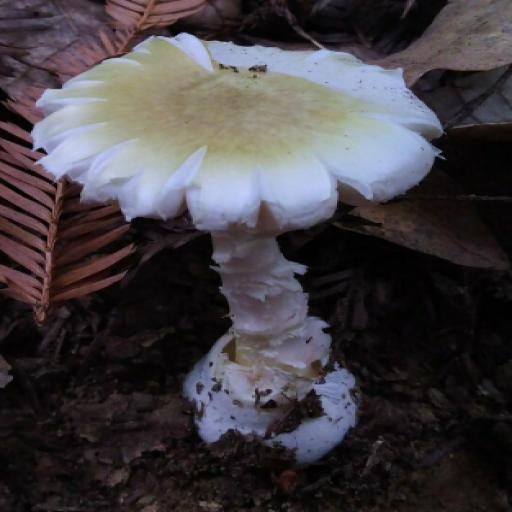mushroom: (0, 0, 458, 481)
